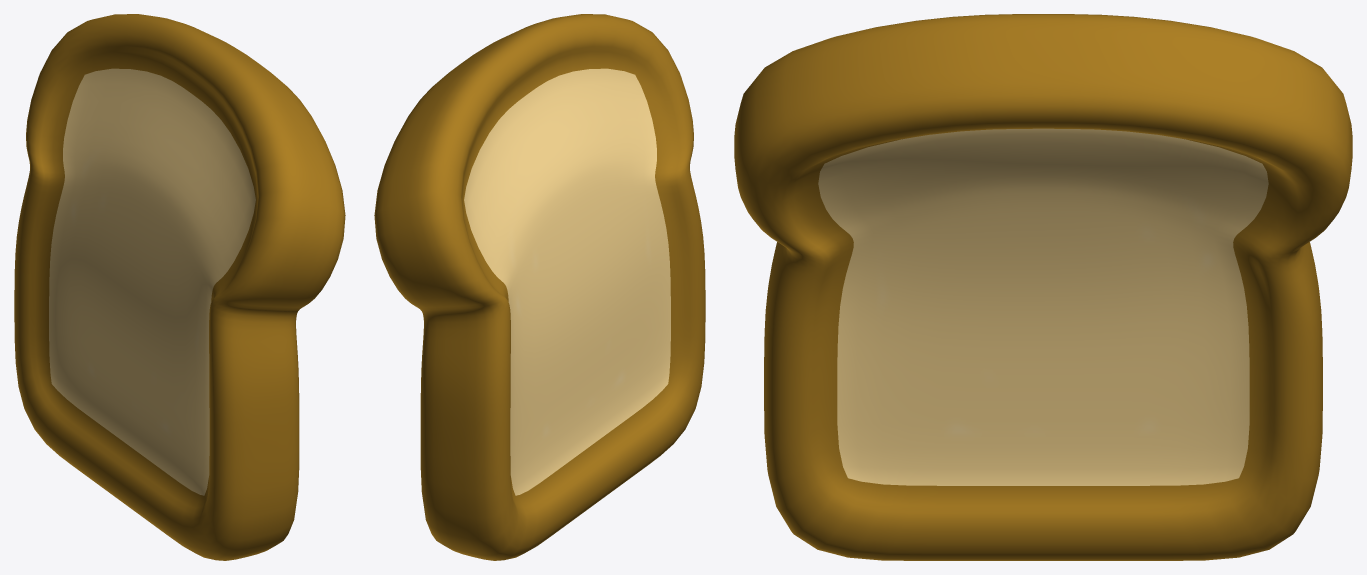
File: BreadWall.fbx
3 views of the same model, side by side, from view 1: azimuth 30°, elevation 25°; view 2: azimuth 150°, elevation 25°; view 3: azimuth 270°, elevation 25° (orthographic). The views are drawn at different scales.
Visible parts, largest first — view 1: Cube; view 2: Cube; view 3: Cube.
Boxes of the visible parts, x1,y1,x2,y2 form: Cube: (14,14,345,560); Cube: (374,14,705,560); Cube: (734,14,1352,560).
Size of the model in its own units: 81.16 by 223 by 221.
